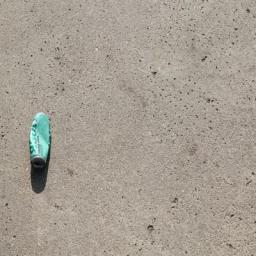FOD: (25, 104, 54, 195)
